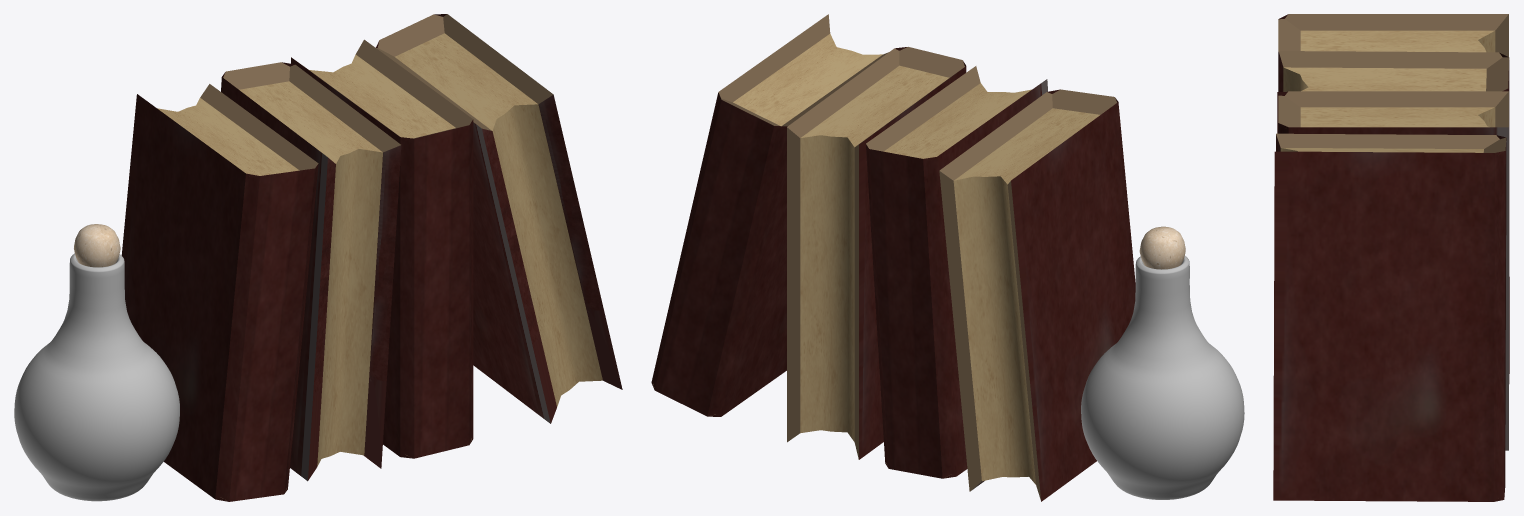
Rendered from ClutterFin.fbx.
3 views of the same model, side by side, from view 1: azimuth 30°, elevation 25°; view 2: azimuth 150°, elevation 25°; view 3: azimuth 270°, elevation 25° (orthographic). The views are drawn at different scales.
Parts seen in each view (by area): view 1: Bookclutter, bottle; view 2: Bookclutter, bottle; view 3: Bookclutter.
Part boxes in pixels (box(x1,y1,x2,y2)): Bookclutter: box(121, 14, 622, 501); bottle: box(14, 224, 179, 501); Bookclutter: box(651, 14, 1135, 501); bottle: box(1081, 226, 1244, 499); Bookclutter: box(1273, 14, 1509, 501).
Bounding box in the file's own units: 7.4 × 4.41 × 2.77.
Materials: 3 (3 with a texture image).
